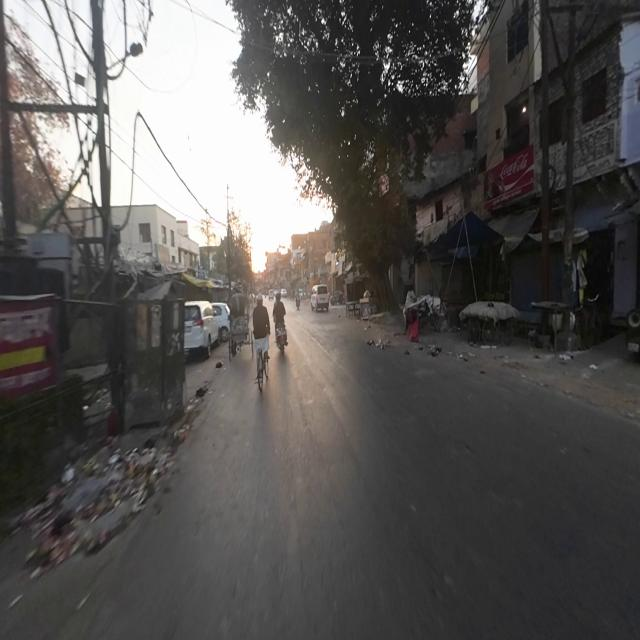Garbage: (36, 442, 166, 579)
